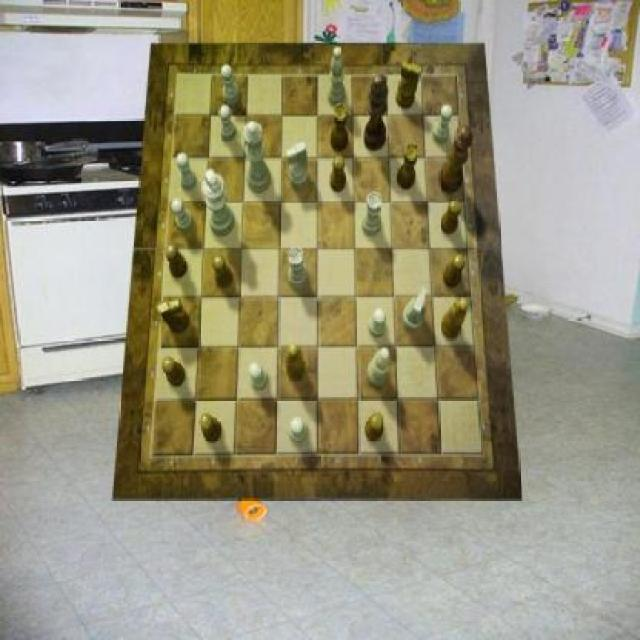bishop: (440, 297, 468, 339), (286, 343, 306, 382)
black-bishop: (365, 74, 389, 151)
black-king: (397, 60, 421, 109), (157, 299, 189, 333)
black-knight: (166, 243, 189, 278), (443, 254, 466, 288), (440, 200, 461, 236), (162, 357, 186, 388), (212, 256, 233, 290), (200, 414, 222, 443), (330, 156, 346, 192), (365, 414, 382, 441)
black-pawn: (438, 127, 474, 196)
black-queen: (397, 143, 419, 189), (331, 105, 348, 152)
black-rook: (328, 48, 345, 108), (368, 348, 390, 388)
white-bishop: (202, 169, 234, 237)
white-king: (403, 288, 428, 332), (286, 143, 309, 189)
white-knight: (434, 104, 454, 144), (171, 199, 194, 233), (177, 152, 197, 191), (222, 64, 240, 104), (219, 105, 236, 142), (248, 363, 268, 391), (368, 309, 385, 337), (290, 417, 308, 442)
white-pawn: (243, 121, 271, 194)
white-queen: (362, 192, 382, 236), (288, 248, 308, 289)
